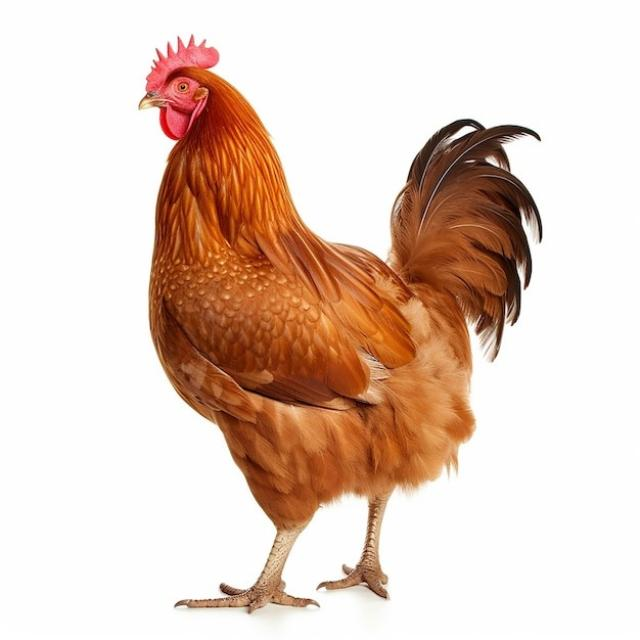Chicken: (138, 36, 544, 612)
